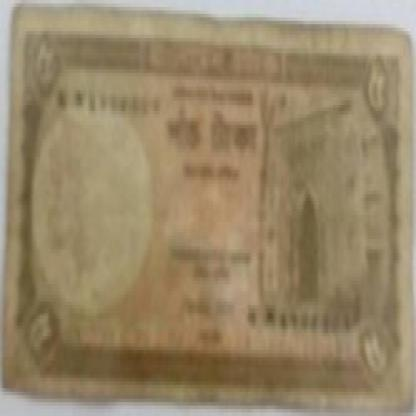Five Taka: (362, 305, 398, 395), (27, 291, 70, 364), (358, 48, 392, 138), (28, 28, 67, 94)
